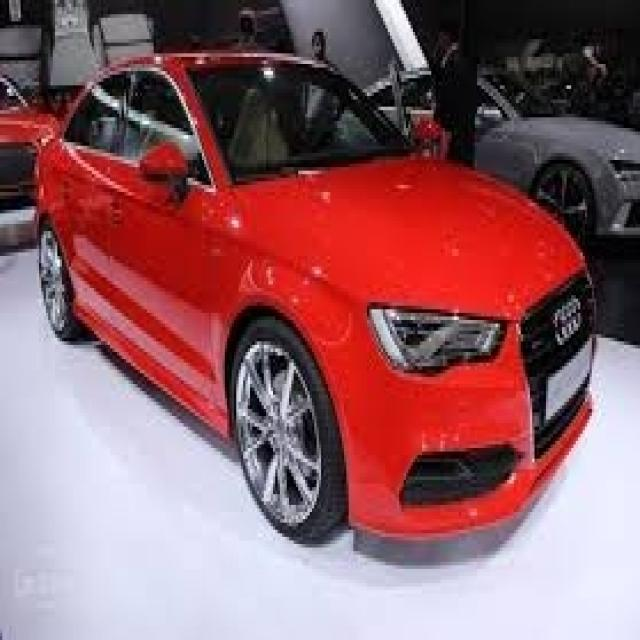red: (35, 49, 602, 546)
